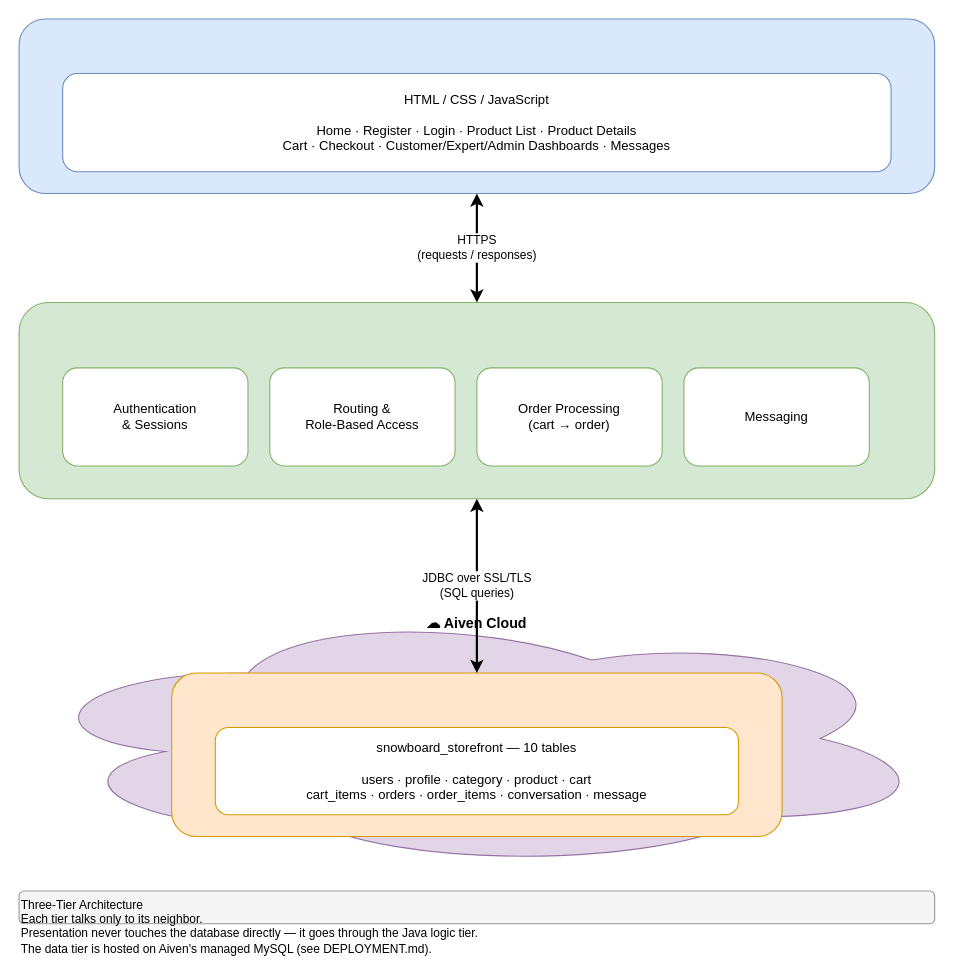
This 954x976 diagram has some shape labels left out. Each missing label, with the box of its shape:
Data Tier — MySQL (InnoDB): (171, 672, 782, 837)
Logic Tier — Application Server (Java): (18, 301, 935, 499)
Presentation Tier — Browser (Client): (18, 18, 935, 193)
